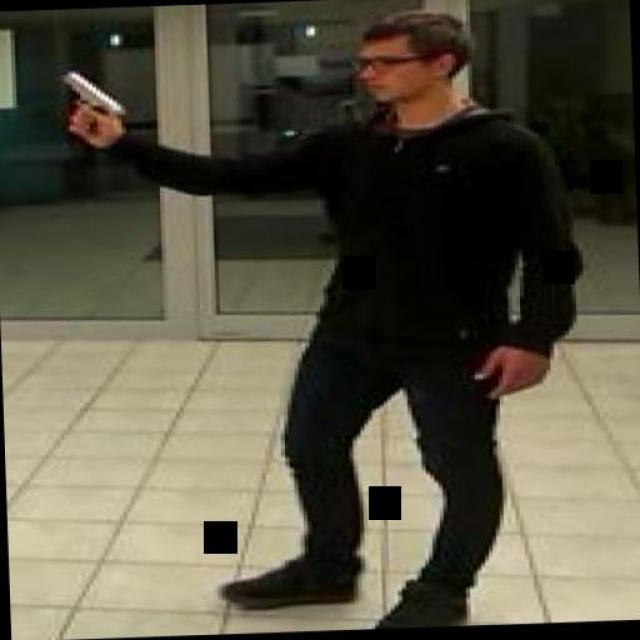gun: (51, 66, 130, 138)
